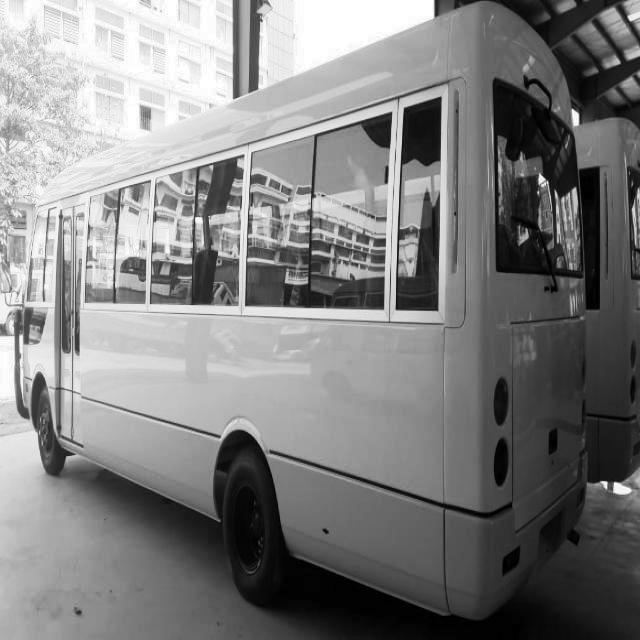Bus: (14, 18, 594, 638)
